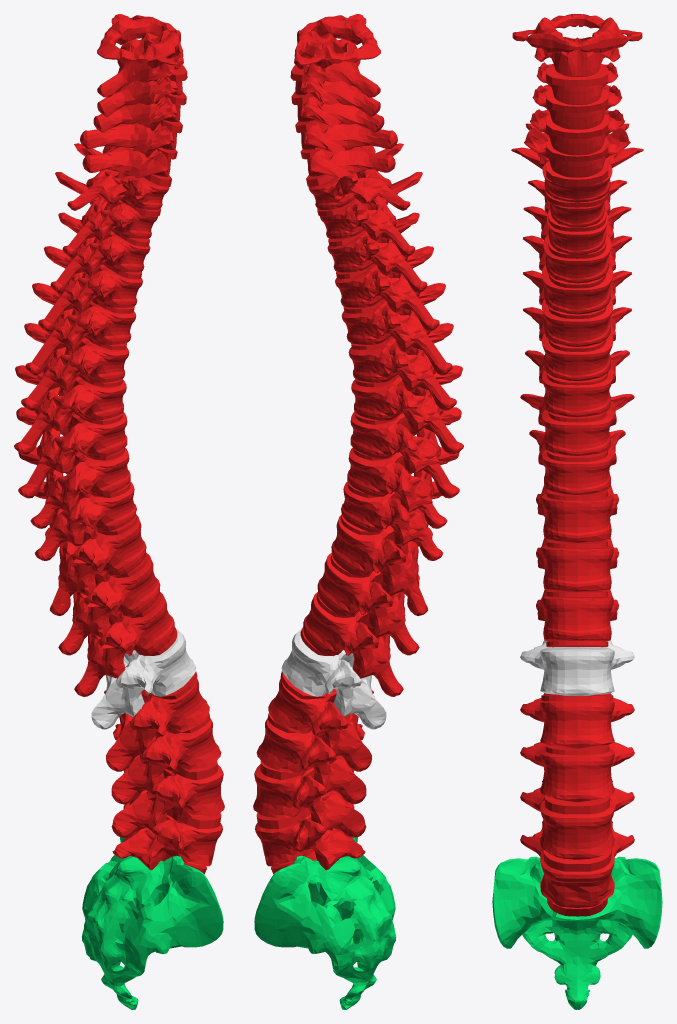
Rendered from spine_green2.glb.
The picture shows the model from 3 angles, left to right: view 1: azimuth 30°, elevation 25°; view 2: azimuth 150°, elevation 25°; view 3: azimuth 270°, elevation 25°; orthographic projection.
Parts seen in each view (by area): view 1: Mesh_5, Mesh_0, Mesh_19, Mesh_18, Mesh_16, Mesh_1, Mesh_7, Mesh_13, Mesh_3, Mesh_12, Mesh_14, Mesh_11 (+16 smaller); view 2: Mesh_5, Mesh_0, Mesh_19, Mesh_18, Mesh_16, Mesh_7, Mesh_1, Mesh_13, Mesh_3, Mesh_12, Mesh_14, Mesh_11 (+16 smaller); view 3: Mesh_5, Mesh_17, Mesh_0, Mesh_22, Mesh_7, Mesh_3, Mesh_1, Mesh_16, Mesh_2, Mesh_18, Mesh_4, Mesh_19 (+16 smaller).
Boxes of the visible parts, x1,y1,x2,y2 form: Mesh_5: (82,837,223,1009); Mesh_0: (91,628,196,729); Mesh_19: (45,515,146,615); Mesh_18: (58,552,160,655); Mesh_16: (72,592,174,696); Mesh_1: (111,764,224,837); Mesh_7: (111,718,221,804); Mesh_13: (16,407,127,498); Mesh_3: (104,679,209,771); Mesh_12: (14,365,126,454); Mesh_14: (18,447,130,528); Mesh_11: (21,323,129,410); Mesh_5: (254,837,396,1009); Mesh_0: (281,628,389,729); Mesh_19: (331,515,432,615); Mesh_18: (317,552,419,655); Mesh_16: (303,592,405,696); Mesh_7: (256,718,366,804); Mesh_1: (253,764,366,837); Mesh_13: (350,407,461,498); Mesh_3: (268,679,374,771); Mesh_12: (351,365,463,454); Mesh_14: (347,447,459,528); Mesh_11: (348,323,456,410); Mesh_5: (492,856,662,1009); Mesh_17: (546,209,608,647); Mesh_0: (520,640,634,695); Mesh_22: (545,66,608,207); Mesh_7: (520,742,634,802); Mesh_3: (520,693,634,748); Mesh_1: (520,780,634,859); Mesh_16: (536,589,618,641); Mesh_2: (520,820,634,907); Mesh_18: (536,538,618,591); Mesh_4: (541,695,613,916); Mesh_19: (536,484,618,542).
Size of the model in its own units: 5.73 by 26.67 by 4.14.
